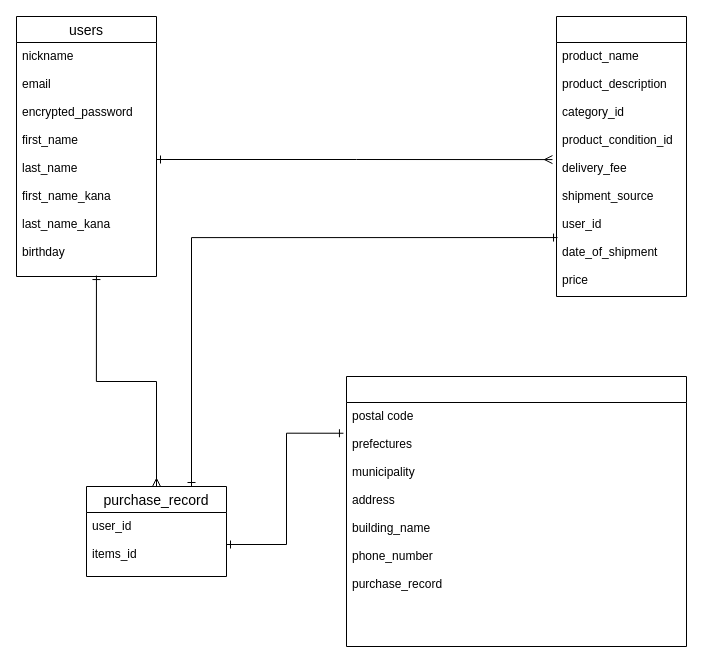
The diagram is 703 pixels wide and 663 high, and some of its shapes have lost their labels. Each missing label, with the box of its shape:
items: (556, 16, 686, 296)
street_address: (346, 376, 686, 646)
